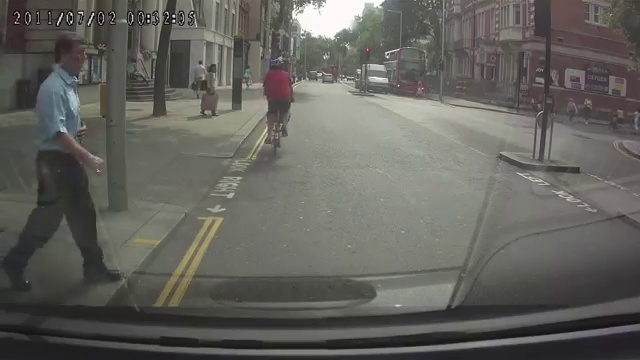cyclist_back: (263, 54, 296, 158)
